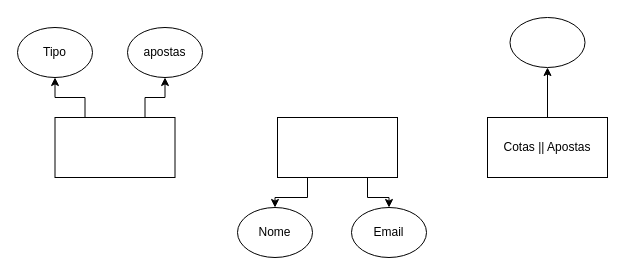
This 625x275 diagram has some shape labels left out. The shapes that lost their labels are listed below. From the top down, each one's box as (x1, y1, x2, y2) in pixels, then its label:
(509, 16, 585, 68): Situação
(54, 116, 175, 178): Bolão
(276, 116, 398, 178): Apostadores
